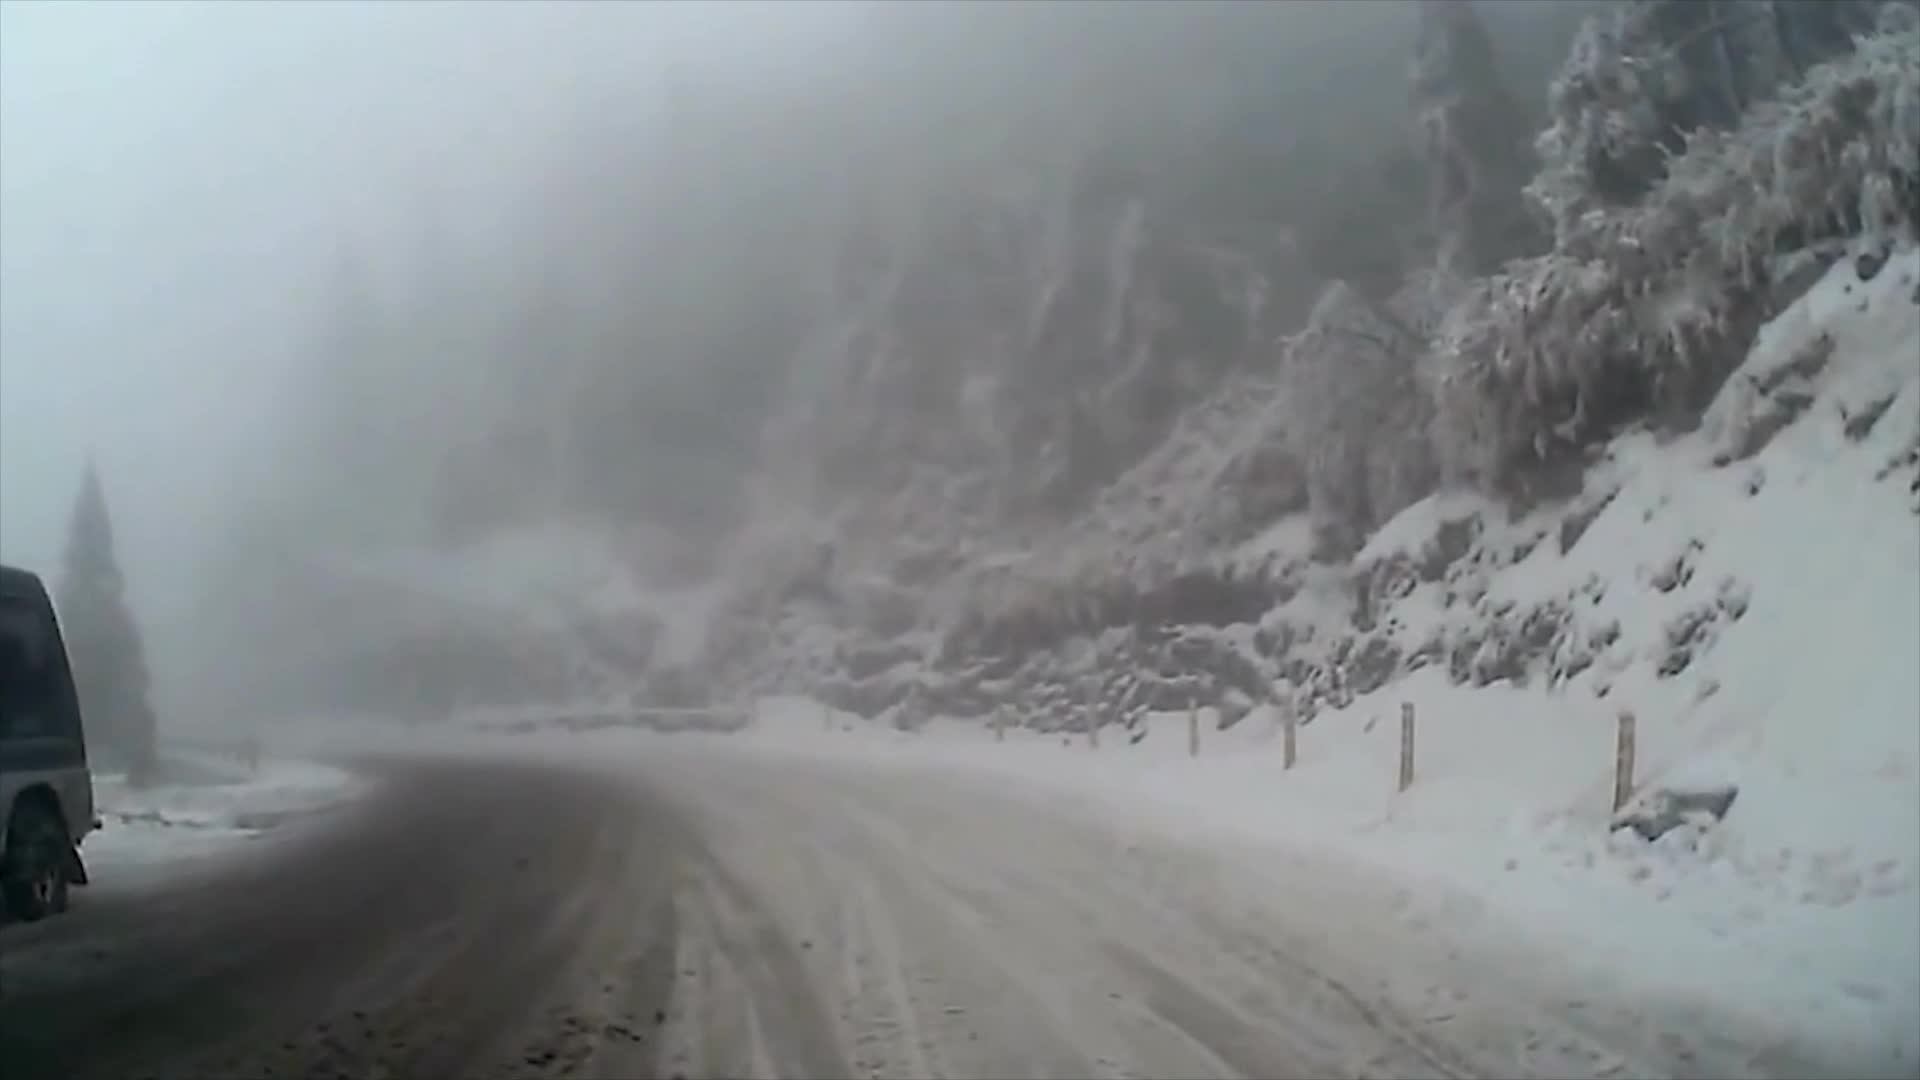vehicle: (0, 563, 105, 924)
